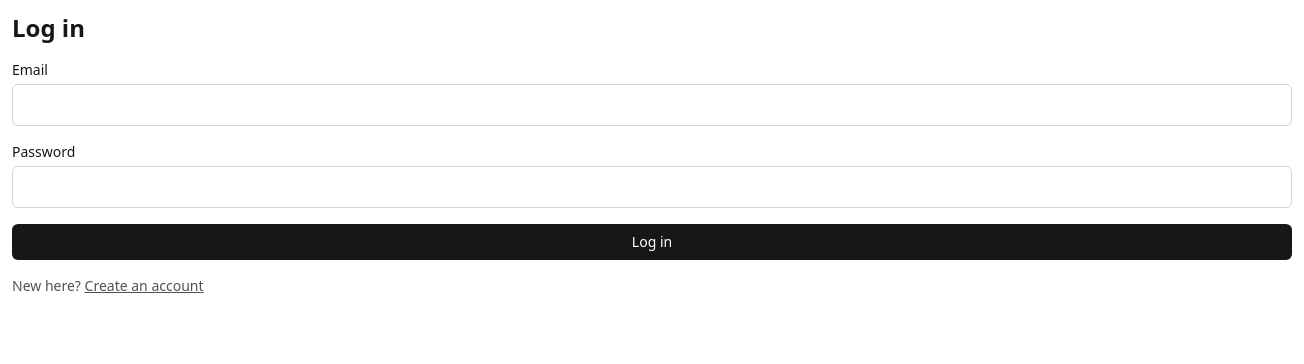
Test: LoginForm › says how long to wait after too many attempts
The width and height of the screenshot is (1304, 364).
Type "alice@example.com" into the field labelled "Email".
click(652, 105); type("alice@example.com")  # box [12,84,1292,126]
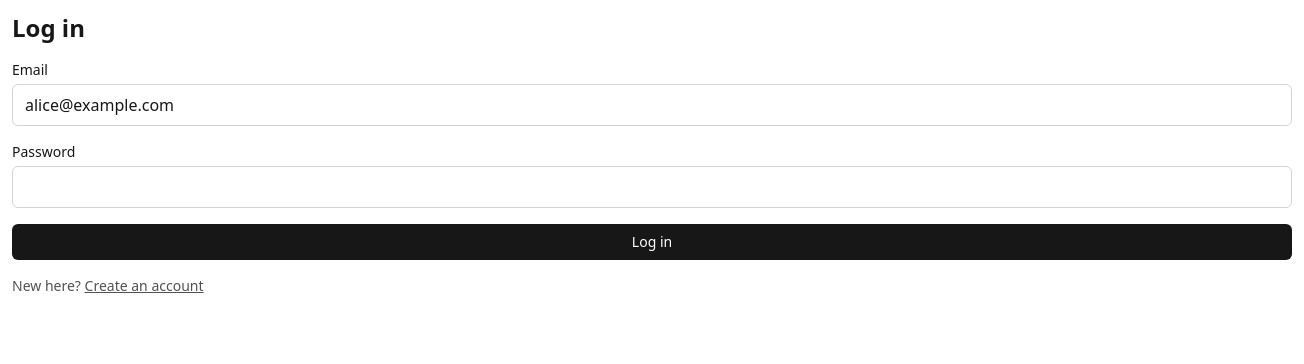
Type "correct horse battery" into the password field labelled "Password".
click(652, 187); type("correct horse battery")  # box [12,166,1292,208]
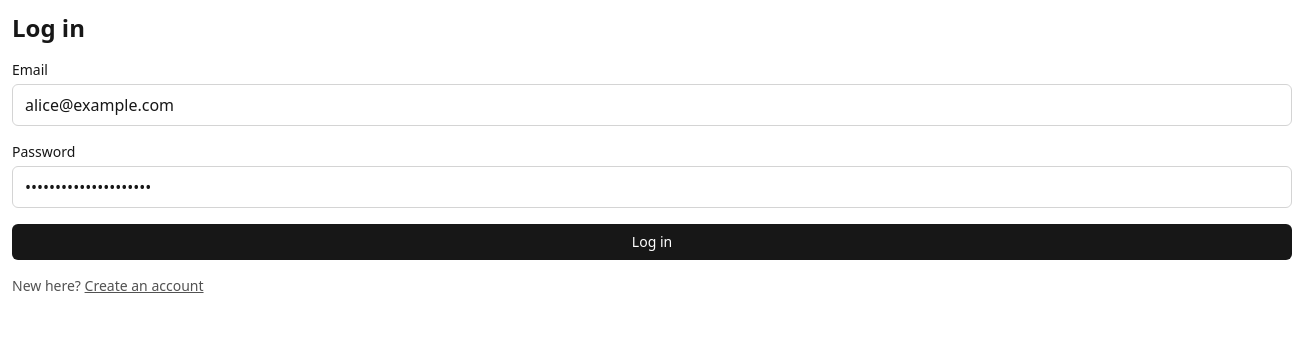
Click the button "Log in".
click(652, 242)  # box [12,224,1292,260]
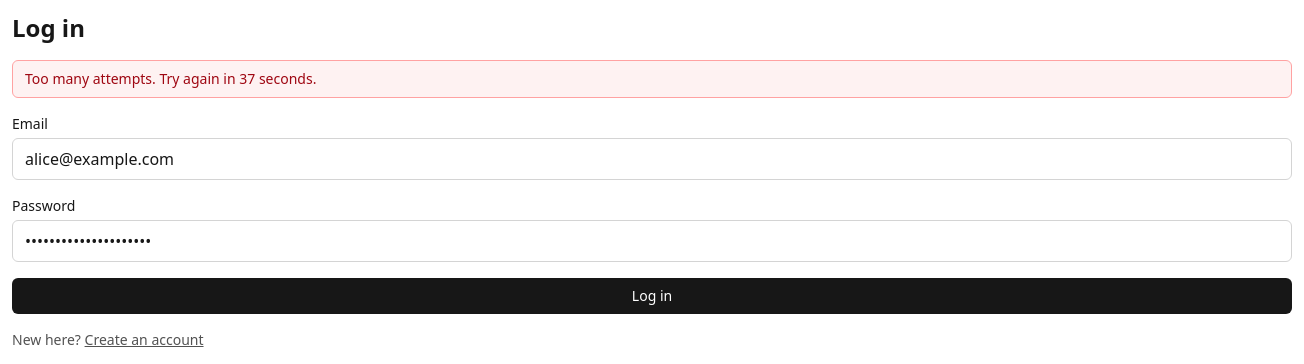
Expected: the message reads "Too many attempts. Try again in 37 seconds.", [25,69,316,88]
